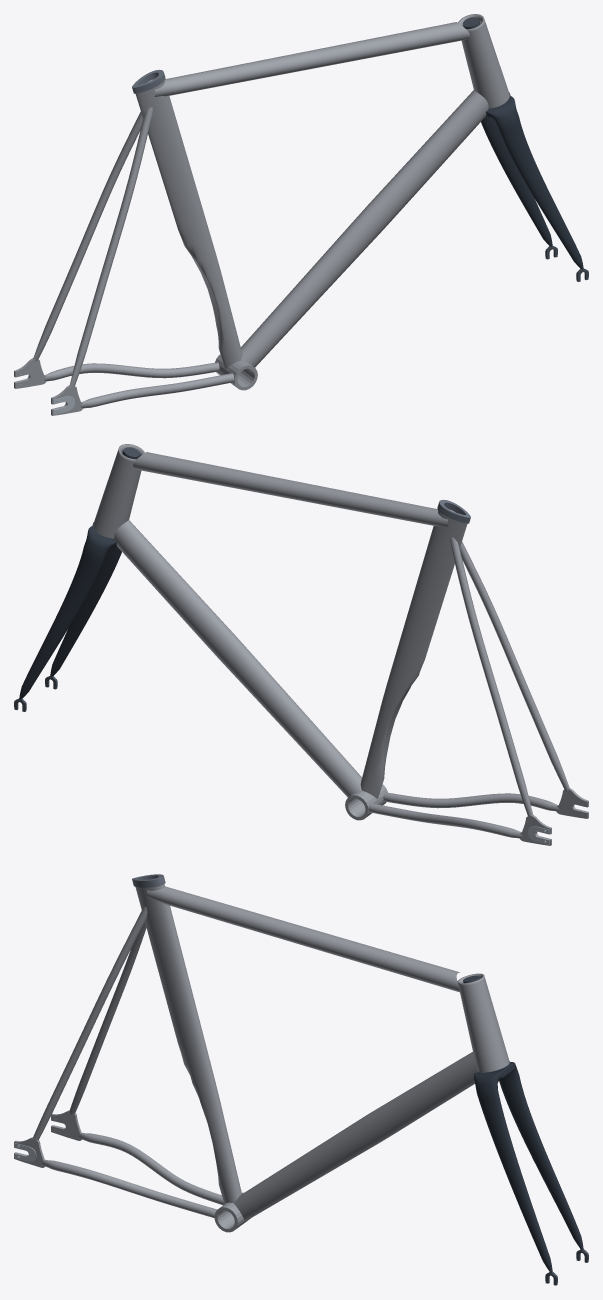
Rendered from cinelli-vigorelli-rainbow-xl.glb.
3 views of the same model, one above another, from view 1: azimuth 30°, elevation 25°; view 2: azimuth 150°, elevation 25°; view 3: azimuth 330°, elevation 25° (orthographic).
Visible parts, largest first — view 1: paint_down, paint_seat, paint_top, fork_blade_1, paint_head, paint_seatstay_1, paint_seatstay_-1, fork_blade_-1, paint_chainstay_-1, paint_chainstay_1, paint_bottom_bracket, rear_dropout_-1 (+1 smaller); view 2: paint_down, paint_seat, paint_top, fork_blade_-1, paint_head, paint_seatstay_-1, paint_seatstay_1, fork_blade_1, paint_chainstay_1, paint_chainstay_-1, paint_bottom_bracket, rear_dropout_1 (+1 smaller); view 3: paint_down, paint_seat, paint_top, paint_head, fork_blade_1, fork_blade_-1, paint_seatstay_1, paint_chainstay_1, paint_seatstay_-1, paint_chainstay_-1, fork_crown, paint_bottom_bracket (+1 smaller).
Boxes of the visible parts, box(x1,y1,x2,y2) form: paint_down: box(241, 90, 488, 367); paint_seat: box(135, 80, 242, 368); paint_top: box(154, 22, 469, 96); fork_blade_1: box(498, 118, 583, 269); paint_head: box(458, 14, 509, 108); paint_seatstay_1: box(69, 107, 152, 385); paint_seatstay_-1: box(33, 111, 143, 361); fork_blade_-1: box(481, 116, 552, 246); paint_chainstay_-1: box(43, 362, 219, 381); paint_chainstay_1: box(80, 373, 234, 408); paint_bottom_bracket: box(215, 354, 257, 390); rear_dropout_-1: box(14, 358, 46, 388); paint_down: box(114, 520, 361, 797); paint_seat: box(360, 510, 467, 798); paint_top: box(133, 452, 448, 526); fork_blade_-1: box(19, 548, 104, 699); paint_head: box(93, 444, 144, 538); paint_seatstay_-1: box(450, 537, 533, 815); paint_seatstay_1: box(459, 541, 569, 791); fork_blade_1: box(50, 546, 121, 676); paint_chainstay_1: box(383, 792, 559, 811); paint_chainstay_-1: box(368, 803, 522, 838); paint_bottom_bracket: box(345, 784, 387, 820); rear_dropout_1: box(556, 788, 588, 818); paint_down: box(234, 1052, 477, 1220); paint_seat: box(135, 884, 241, 1204); paint_top: box(147, 886, 460, 992); paint_head: box(457, 973, 509, 1072); fork_blade_1: box(477, 1091, 552, 1272); fork_blade_-1: box(499, 1076, 583, 1250); paint_seatstay_1: box(33, 906, 147, 1140); paint_chainstay_1: box(42, 1160, 217, 1218); paint_seatstay_-1: box(69, 922, 146, 1114); paint_chainstay_-1: box(79, 1133, 224, 1205); fork_crown: box(474, 1062, 519, 1094); paint_bottom_bracket: box(214, 1192, 250, 1232).
Bounding box in the file's own units: 1.06 × 0.6181 × 0.1443.
